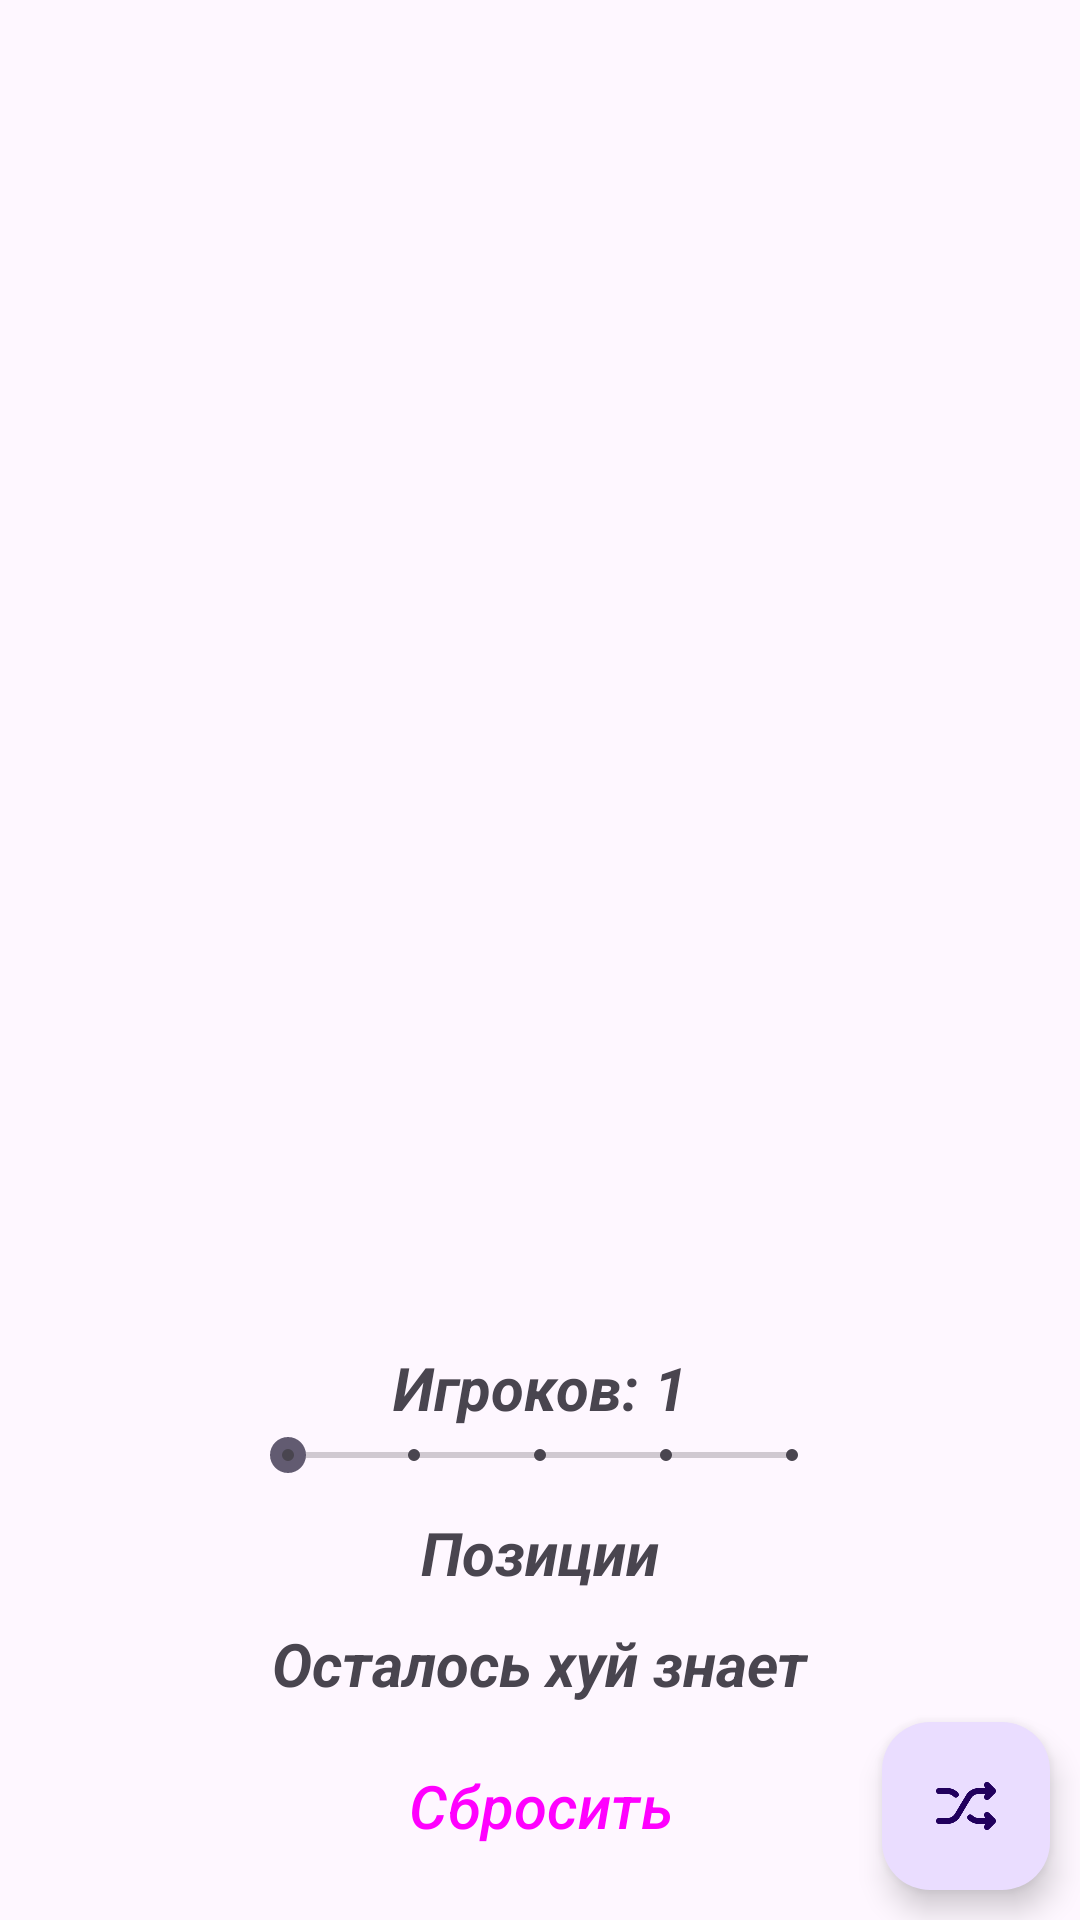

Point at icon controls on the screen. Image size 1080px x 1920px, points as (x,y).
randomize: (966,1806)
